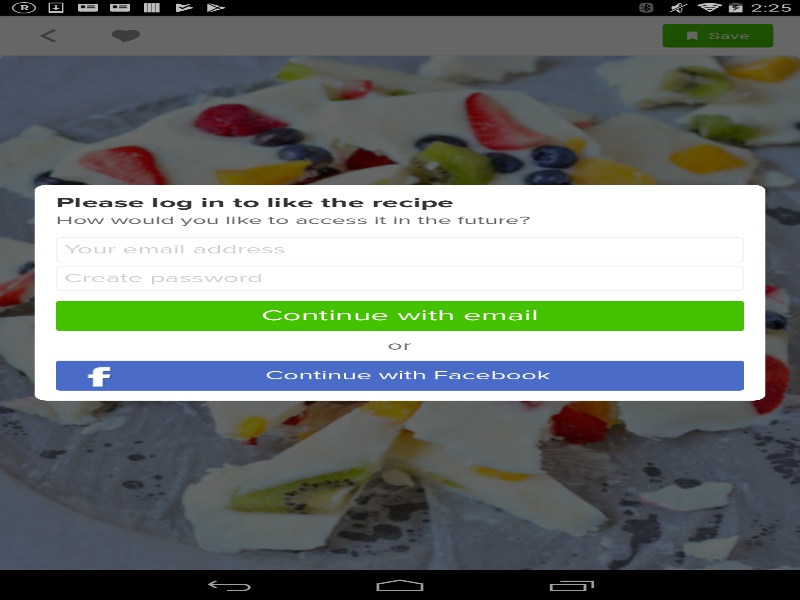Input: (56, 237, 744, 262), (56, 265, 744, 290)
